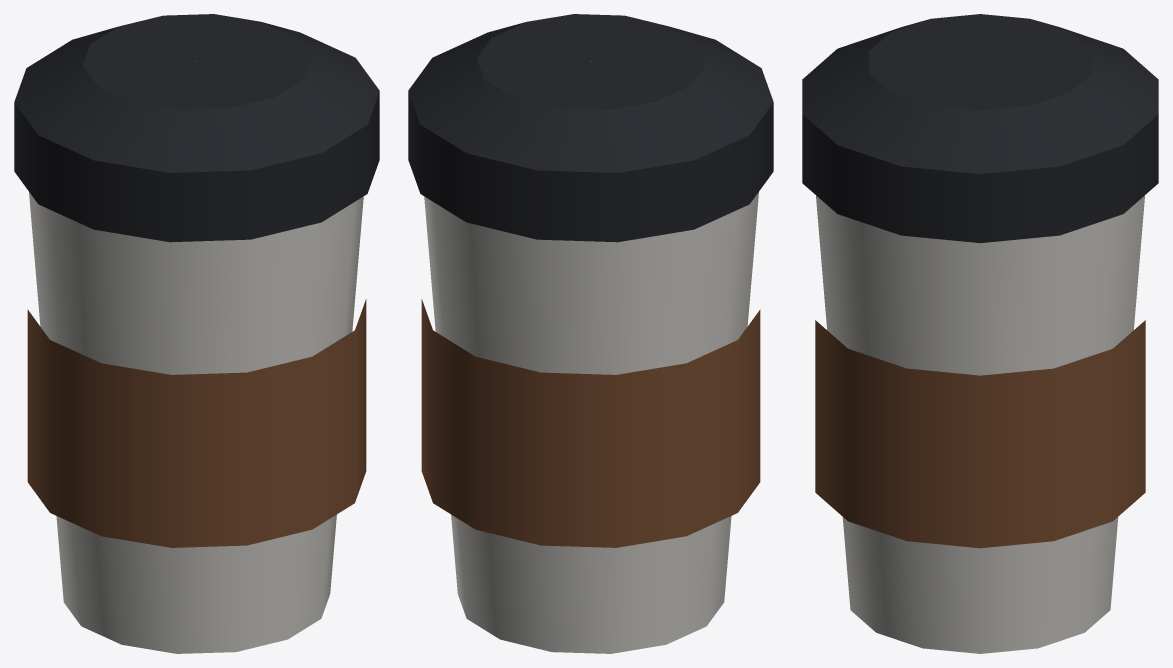
The model's file is coffee_cup.glb.
The picture shows the model from 3 angles, left to right: view 1: azimuth 30°, elevation 25°; view 2: azimuth 150°, elevation 25°; view 3: azimuth 270°, elevation 25°; orthographic projection.
Visible parts, largest first — view 1: main; view 2: main; view 3: main.
Boxes of the visible parts, x1,y1,x2,y2 form: main: [14, 14, 379, 653]; main: [408, 14, 773, 653]; main: [802, 14, 1158, 653].
Size of the model in its own units: 0.096 by 0.155 by 0.0936.
